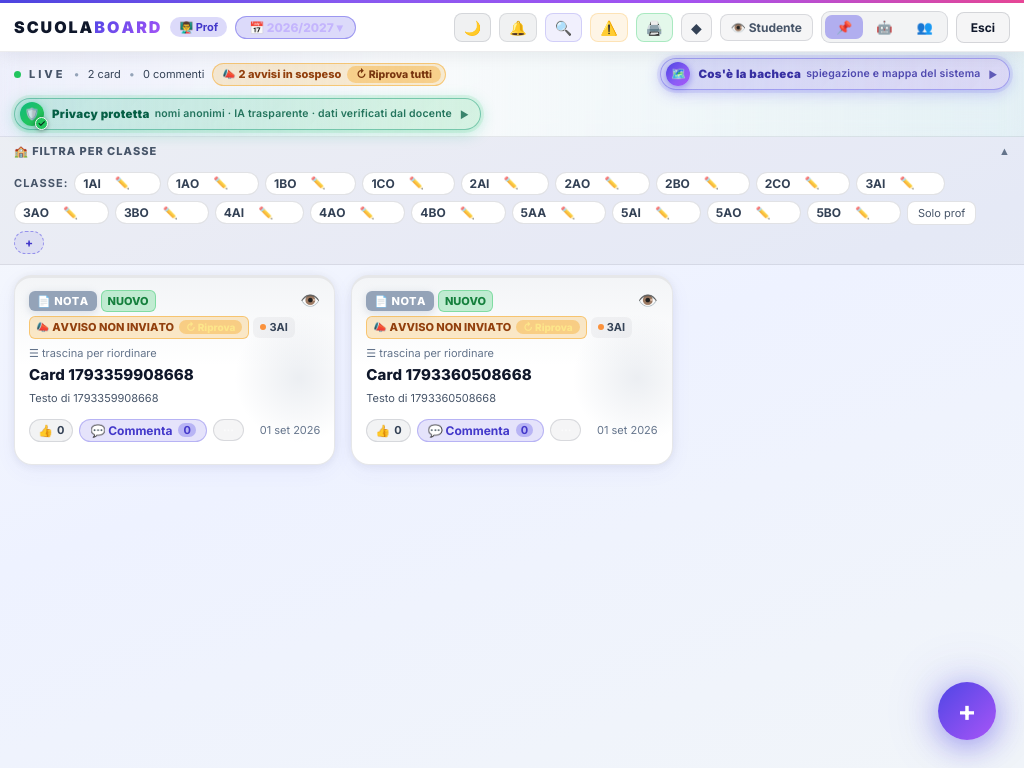
Test: avvisi di classe: indicatore in alto con "Riprova tutti" › conta le card in sospeso e le riprova tutte in una volta
Expected: the text "📣 2 avvisi in sospeso ↻ Riprova tutti" is shown, [212,62,446,86]
Click the button with aria-label "Riprova tutti gli avvisi" at x=394, y=74, box [347,66,441,82]
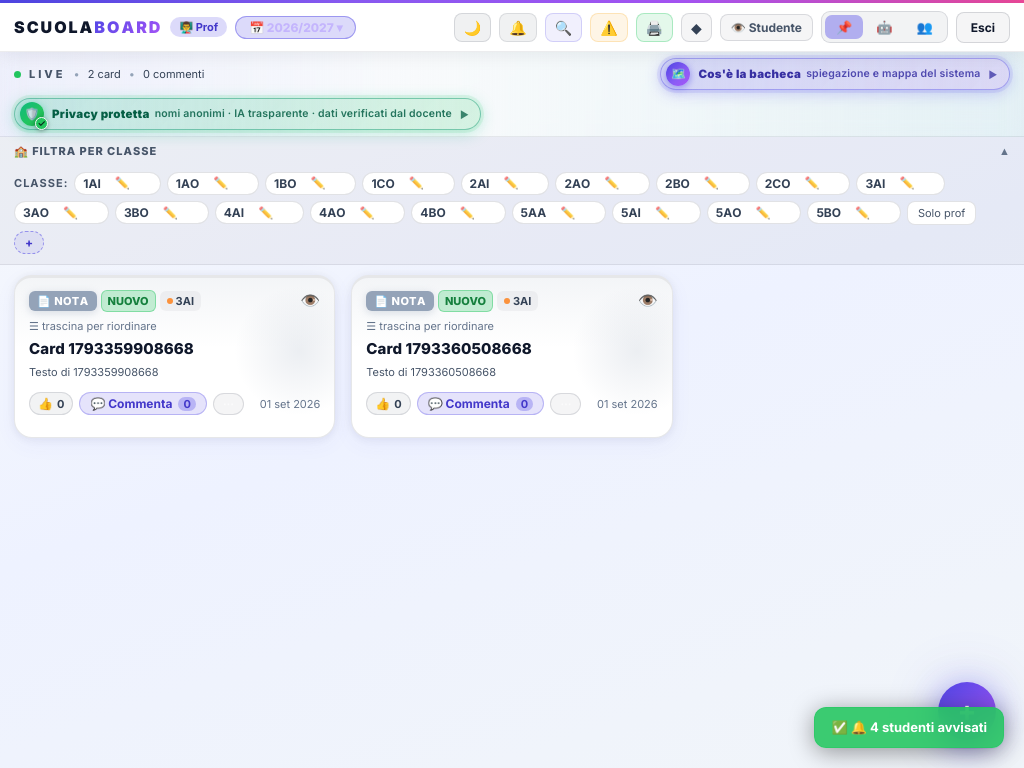
Expected: the text "✅ 🔔 4 studenti avvisati" is shown, [814,706,1004,748]
Expected: the element with class "annunci-sospesi" is gone
